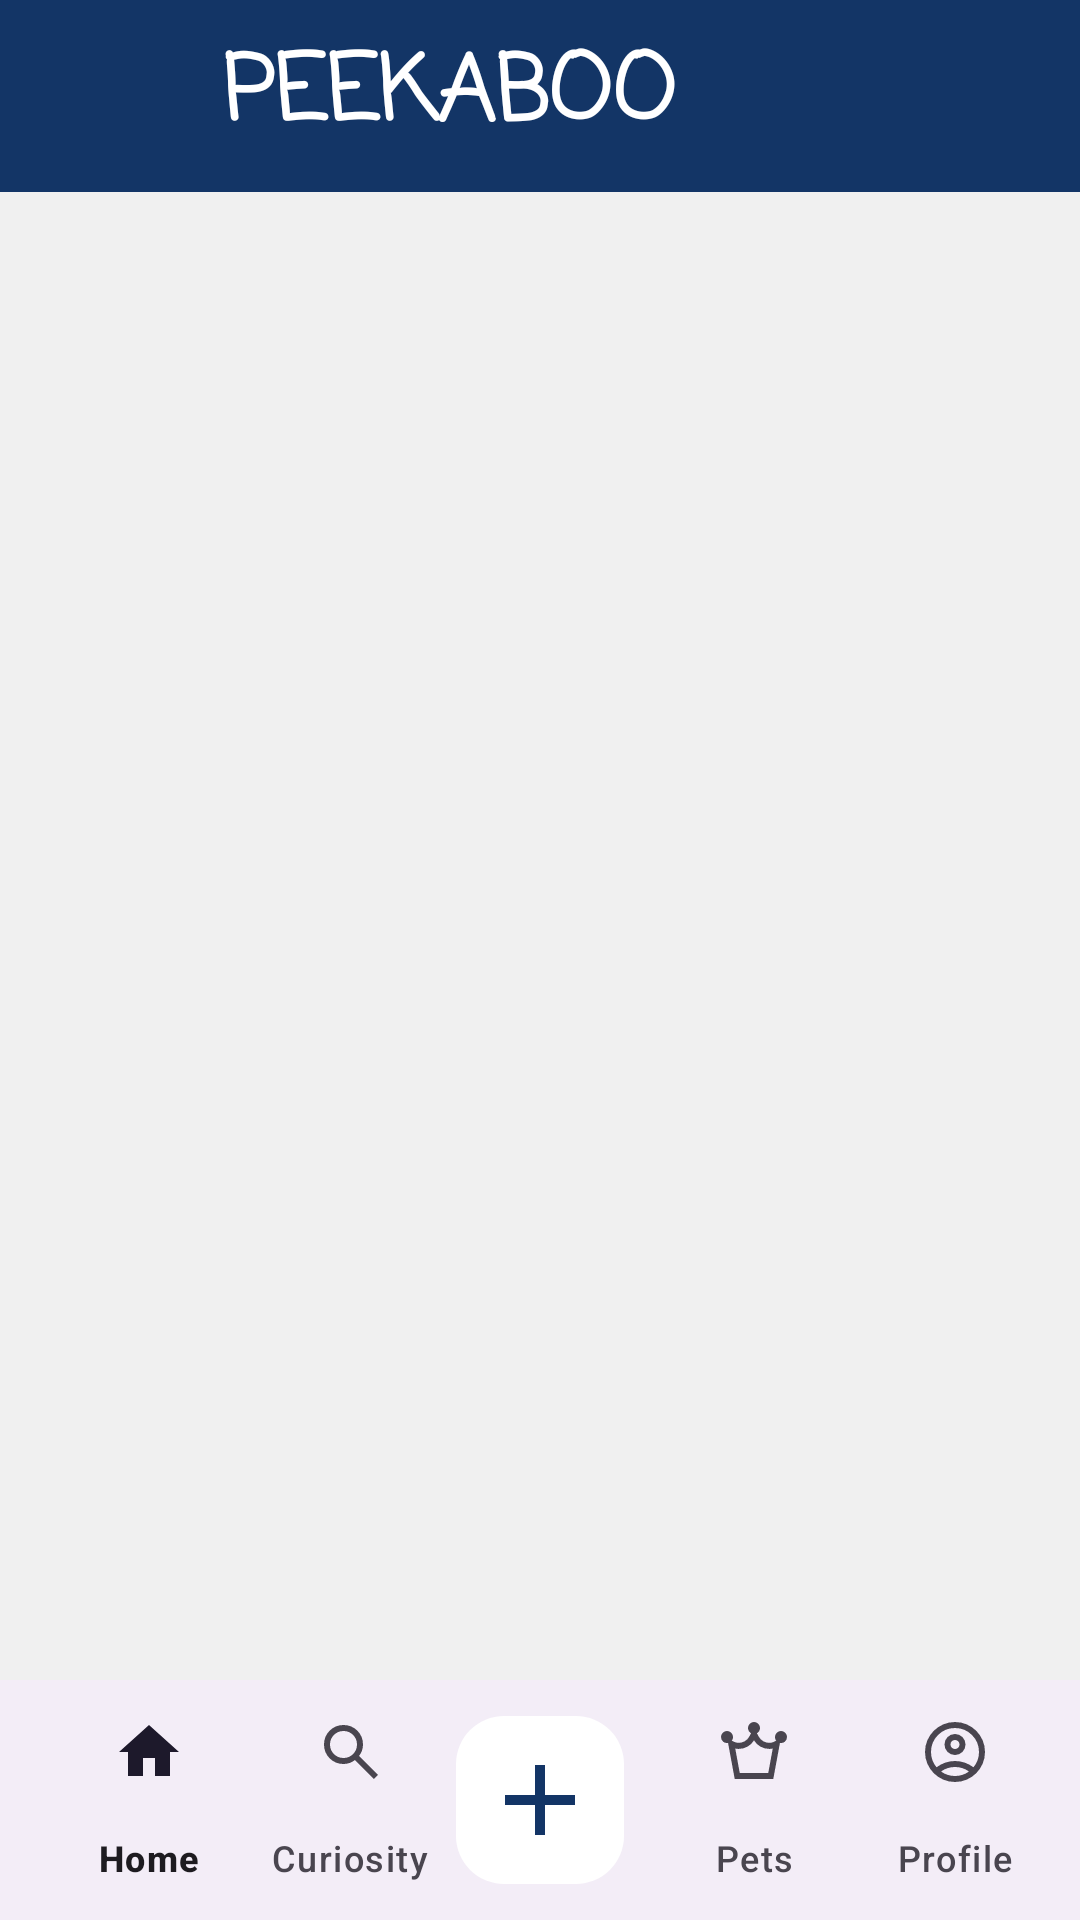

Named icons in this screenshot (1080px×1920px) and their bounding boxes, (x1, y1, x2, y2):
add: (505, 1765, 575, 1835)
